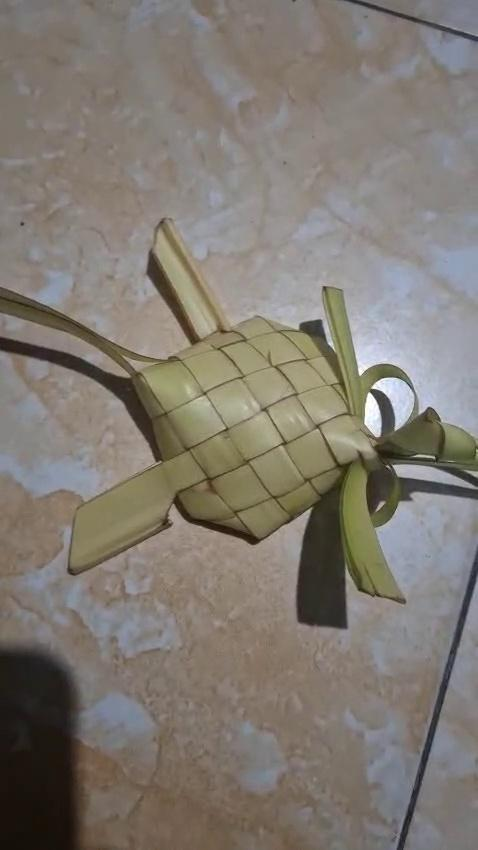Tipat Dampulan: (1, 210, 477, 607)
